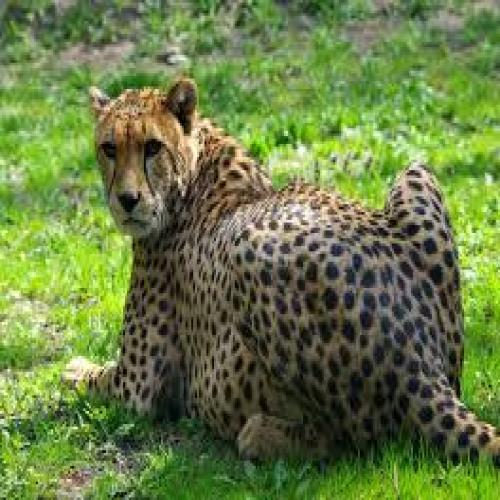cheetah-endangered: (78, 80, 500, 464)
